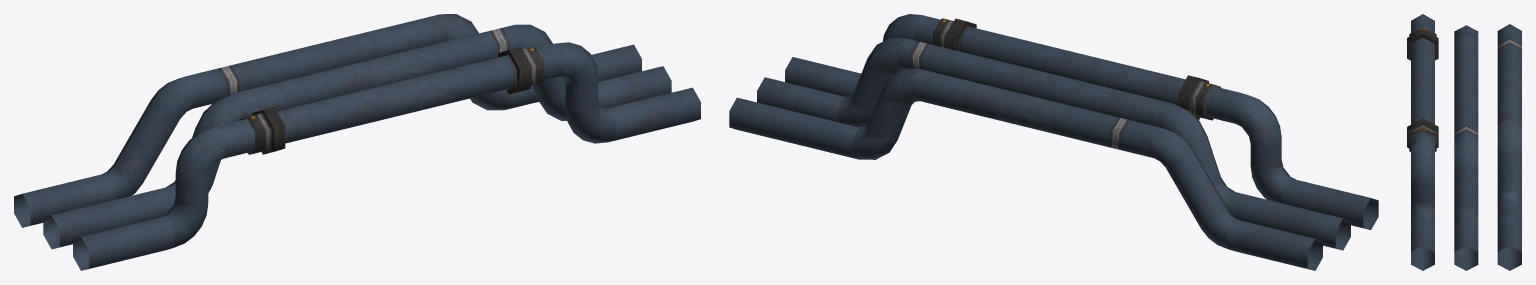
The model's file is PIpe3_F_L1.fbx.
3 views of the same model, side by side, from view 1: azimuth 30°, elevation 25°; view 2: azimuth 150°, elevation 25°; view 3: azimuth 270°, elevation 25° (orthographic). The views are drawn at different scales.
Parts seen in each view (by area): view 1: PIpe3_F_L1; view 2: PIpe3_F_L1; view 3: PIpe3_F_L1.
Boxes of the visible parts, x1=… form: PIpe3_F_L1: x1=14, y1=14, x2=700, y2=270; PIpe3_F_L1: x1=729, y1=14, x2=1378, y2=270; PIpe3_F_L1: x1=1407, y1=14, x2=1521, y2=270.
Size of the model in its own units: 200 by 36.49 by 44.01.
